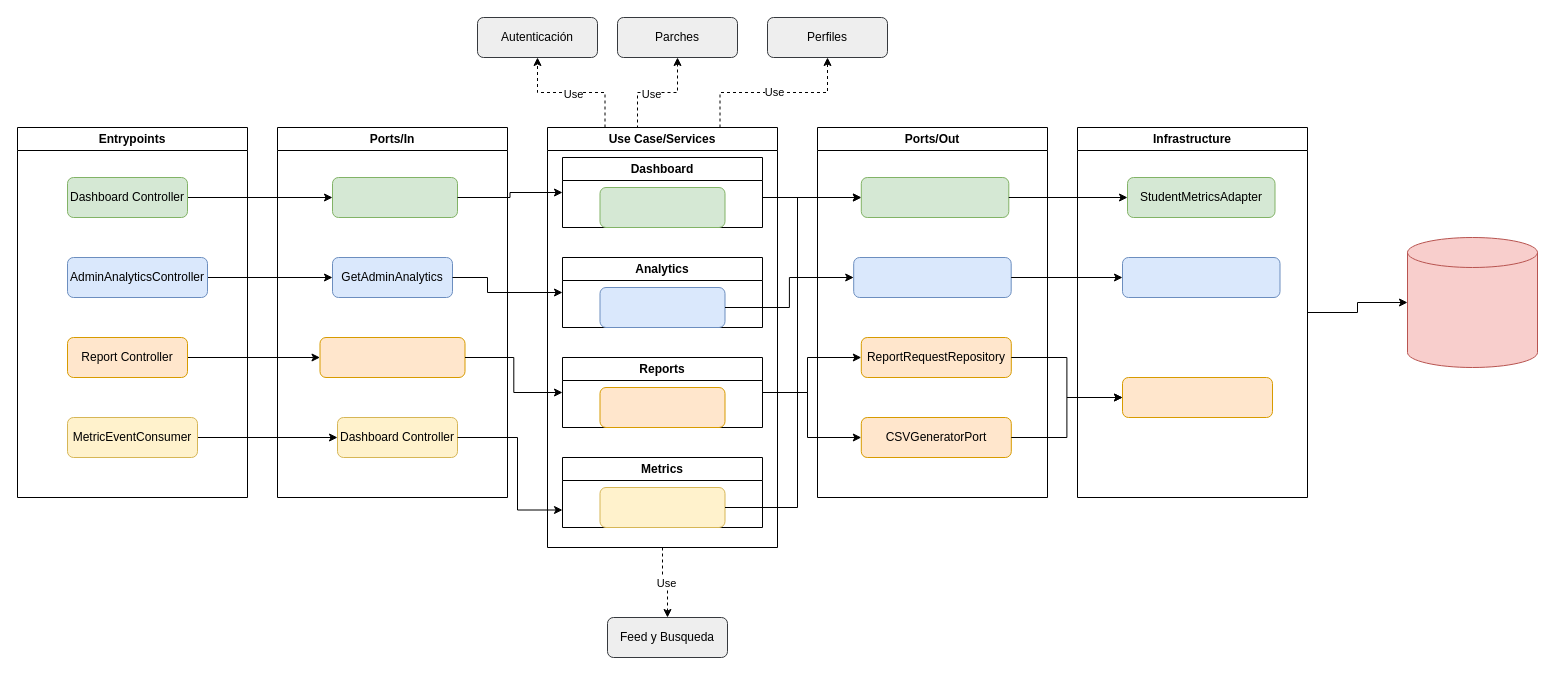
Image size: 1555x675. Some labels were removed from this diagram. Each missing label, with the centre of its shape:
AdminAnalyticsService: the point at 662,307
AdminSnapshotAdapter: the point at 1201,277
AdminSnapshotRepository: the point at 932,277
DashboardService: the point at 662,207
GetStudentDashboard: the point at 395,197
PostgresSQL: the point at 1472,302
ProcessMetricEvent: the point at 662,507
ReportRequestAdapter: the point at 1197,397
ReportRequestUseCase: the point at 392,357
ReportService: the point at 662,407
StudentMetricsRepository: the point at 934,197
